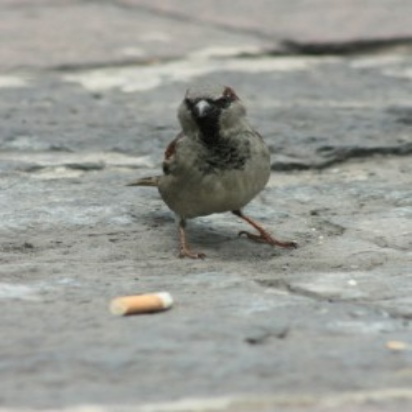cigarette: (112, 286, 176, 321)
